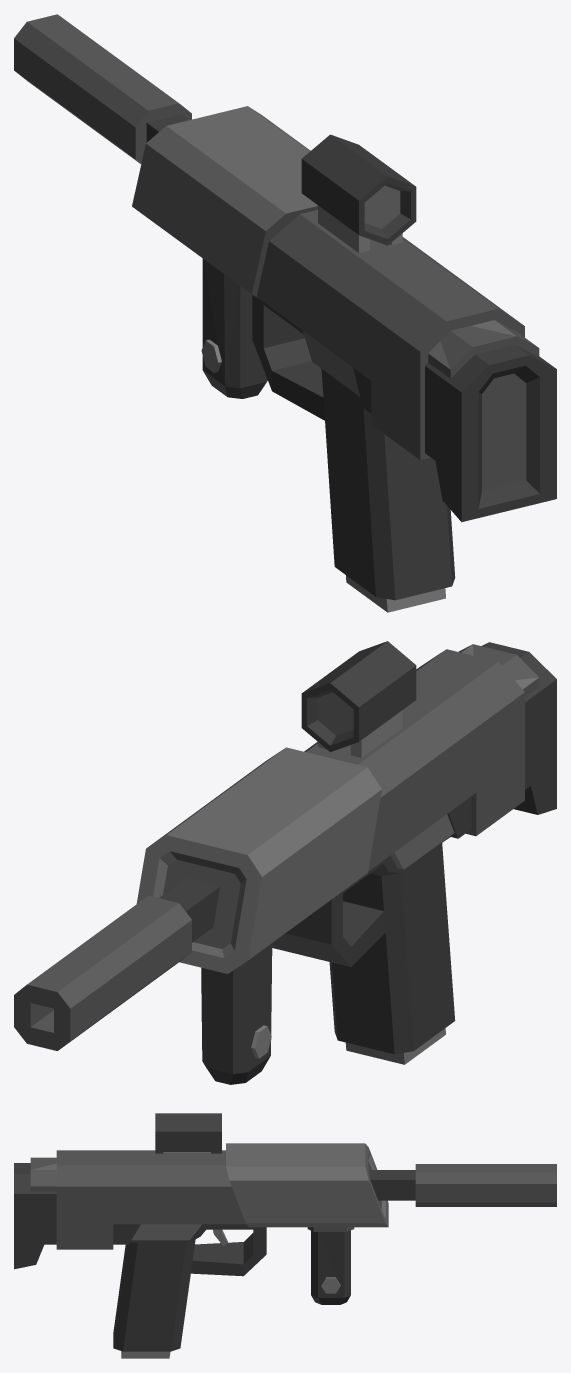
Rendered from subfusil_6.glb.
3 views of the same model, one above another, from view 1: azimuth 30°, elevation 25°; view 2: azimuth 150°, elevation 25°; view 3: azimuth 270°, elevation 25° (orthographic). The views are drawn at different scales.
Parts seen in each view (by area): view 1: subfusil_6, subfusil_scope_6, subfusil_handle_6, subfusil_charguer_6; view 2: subfusil_6, subfusil_scope_6, subfusil_handle_6, subfusil_charguer_6; view 3: subfusil_6, subfusil_scope_6, subfusil_handle_6, subfusil_charguer_6.
Boxes of the visible parts, x1=… form: subfusil_6: x1=14, y1=14, x2=556, y2=600; subfusil_scope_6: x1=301, y1=134, x2=416, y2=252; subfusil_handle_6: x1=201, y1=258, x2=267, y2=398; subfusil_charguer_6: x1=346, y1=575, x2=445, y2=612; subfusil_6: x1=14, y1=642, x2=556, y2=1054; subfusil_scope_6: x1=301, y1=641, x2=416, y2=757; subfusil_handle_6: x1=201, y1=943, x2=272, y2=1084; subfusil_charguer_6: x1=345, y1=1028, x2=445, y2=1064; subfusil_6: x1=14, y1=1143, x2=556, y2=1351; subfusil_scope_6: x1=155, y1=1113, x2=221, y2=1163; subfusil_handle_6: x1=307, y1=1227, x2=354, y2=1304; subfusil_charguer_6: x1=121, y1=1351, x2=170, y2=1358.
Size of the model in its own units: 0.3149 by 1.06 by 2.19.
1 material, 1 textured.
